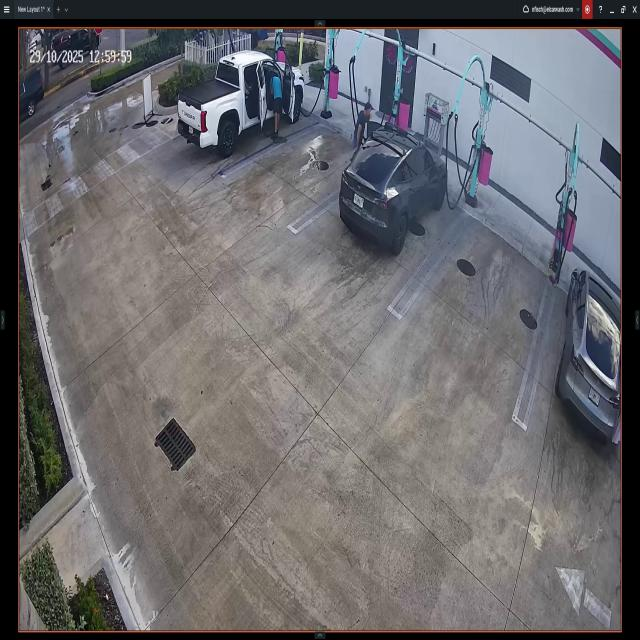Car: (174, 48, 305, 153), (340, 128, 448, 255), (561, 265, 621, 446), (20, 70, 44, 118)
